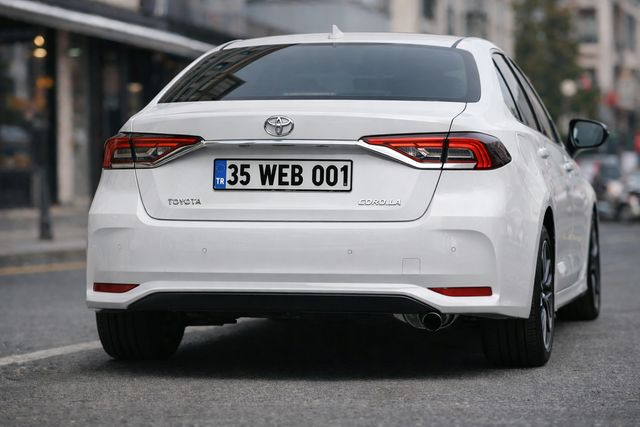plate: (209, 160, 353, 186)
